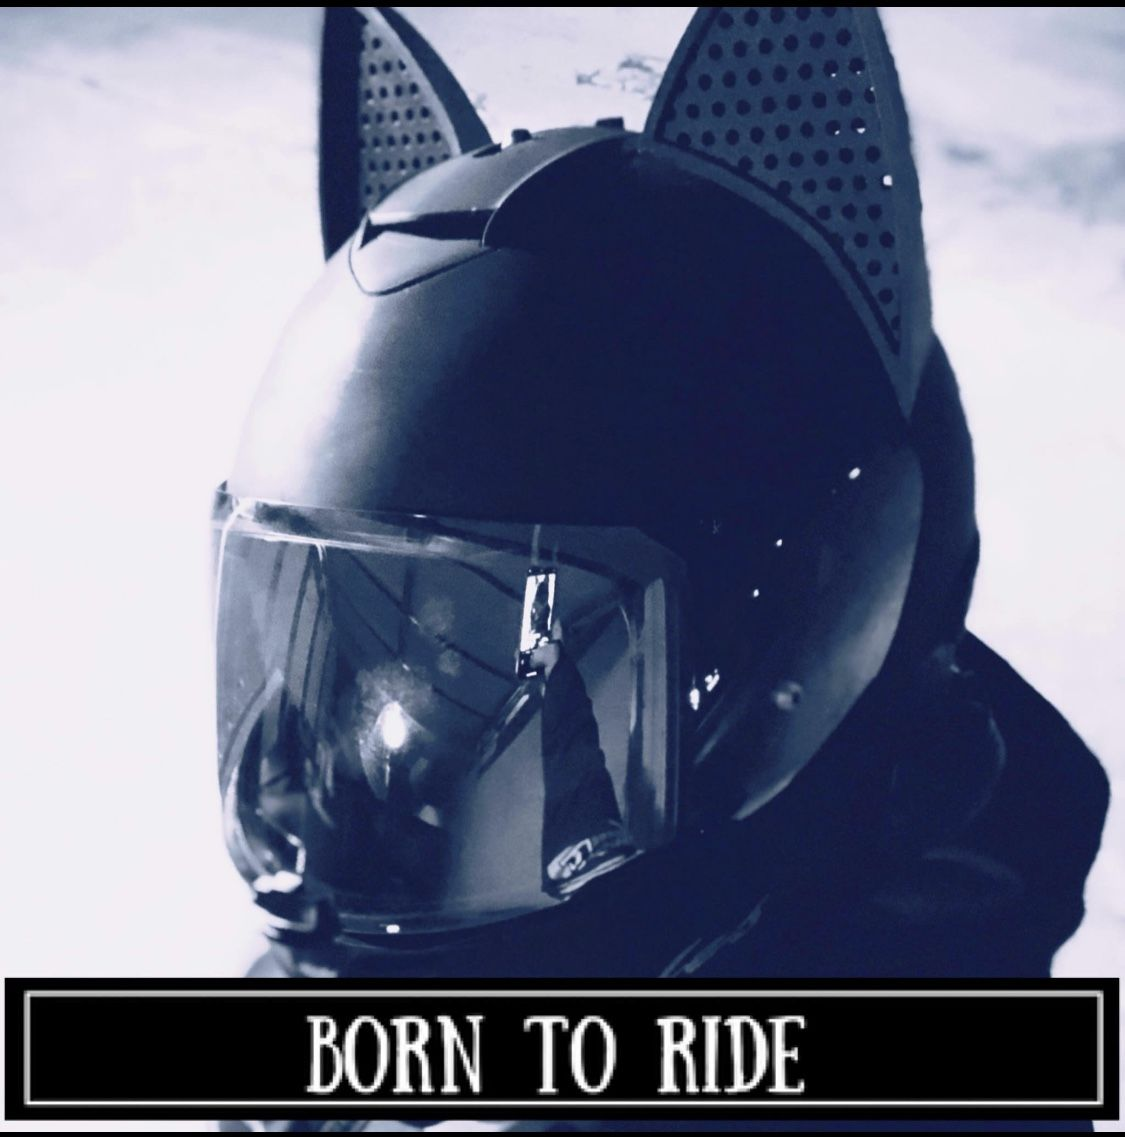with_helmet: (195, 3, 947, 965)
